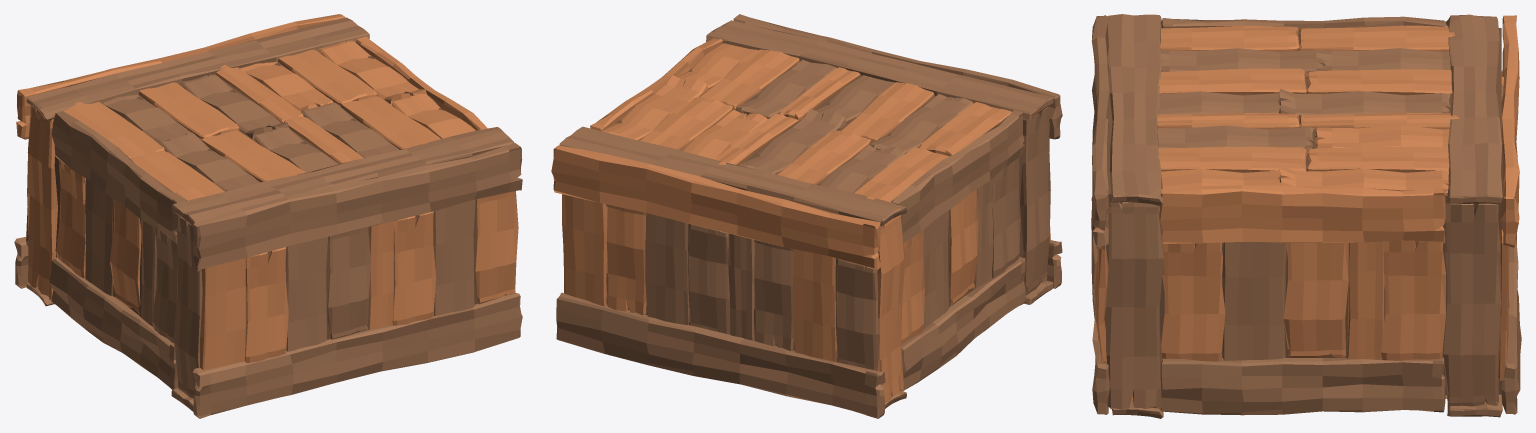
Rendered from drewniana_skrzynka.fbx.
3 renders of one model, left to right at view 1: azimuth 30°, elevation 25°; view 2: azimuth 150°, elevation 25°; view 3: azimuth 270°, elevation 25°, orthographic. The views are drawn at different scales.
Visible parts, largest first — view 1: LP Box|LP Box_L_lp_box_blend_325ddb7a-b520-4618-be5a-64fb96f; view 2: LP Box|LP Box_L_lp_box_blend_325ddb7a-b520-4618-be5a-64fb96f; view 3: LP Box|LP Box_L_lp_box_blend_325ddb7a-b520-4618-be5a-64fb96f.
Part boxes in pixels (x1,y1,x2,y2): LP Box|LP Box_L_lp_box_blend_325ddb7a-b520-4618-be5a-64fb96f: [14, 14, 522, 418]; LP Box|LP Box_L_lp_box_blend_325ddb7a-b520-4618-be5a-64fb96f: [551, 14, 1062, 418]; LP Box|LP Box_L_lp_box_blend_325ddb7a-b520-4618-be5a-64fb96f: [1091, 14, 1521, 418].
Size of the model in its own units: 83.83 by 48.29 by 82.54.
